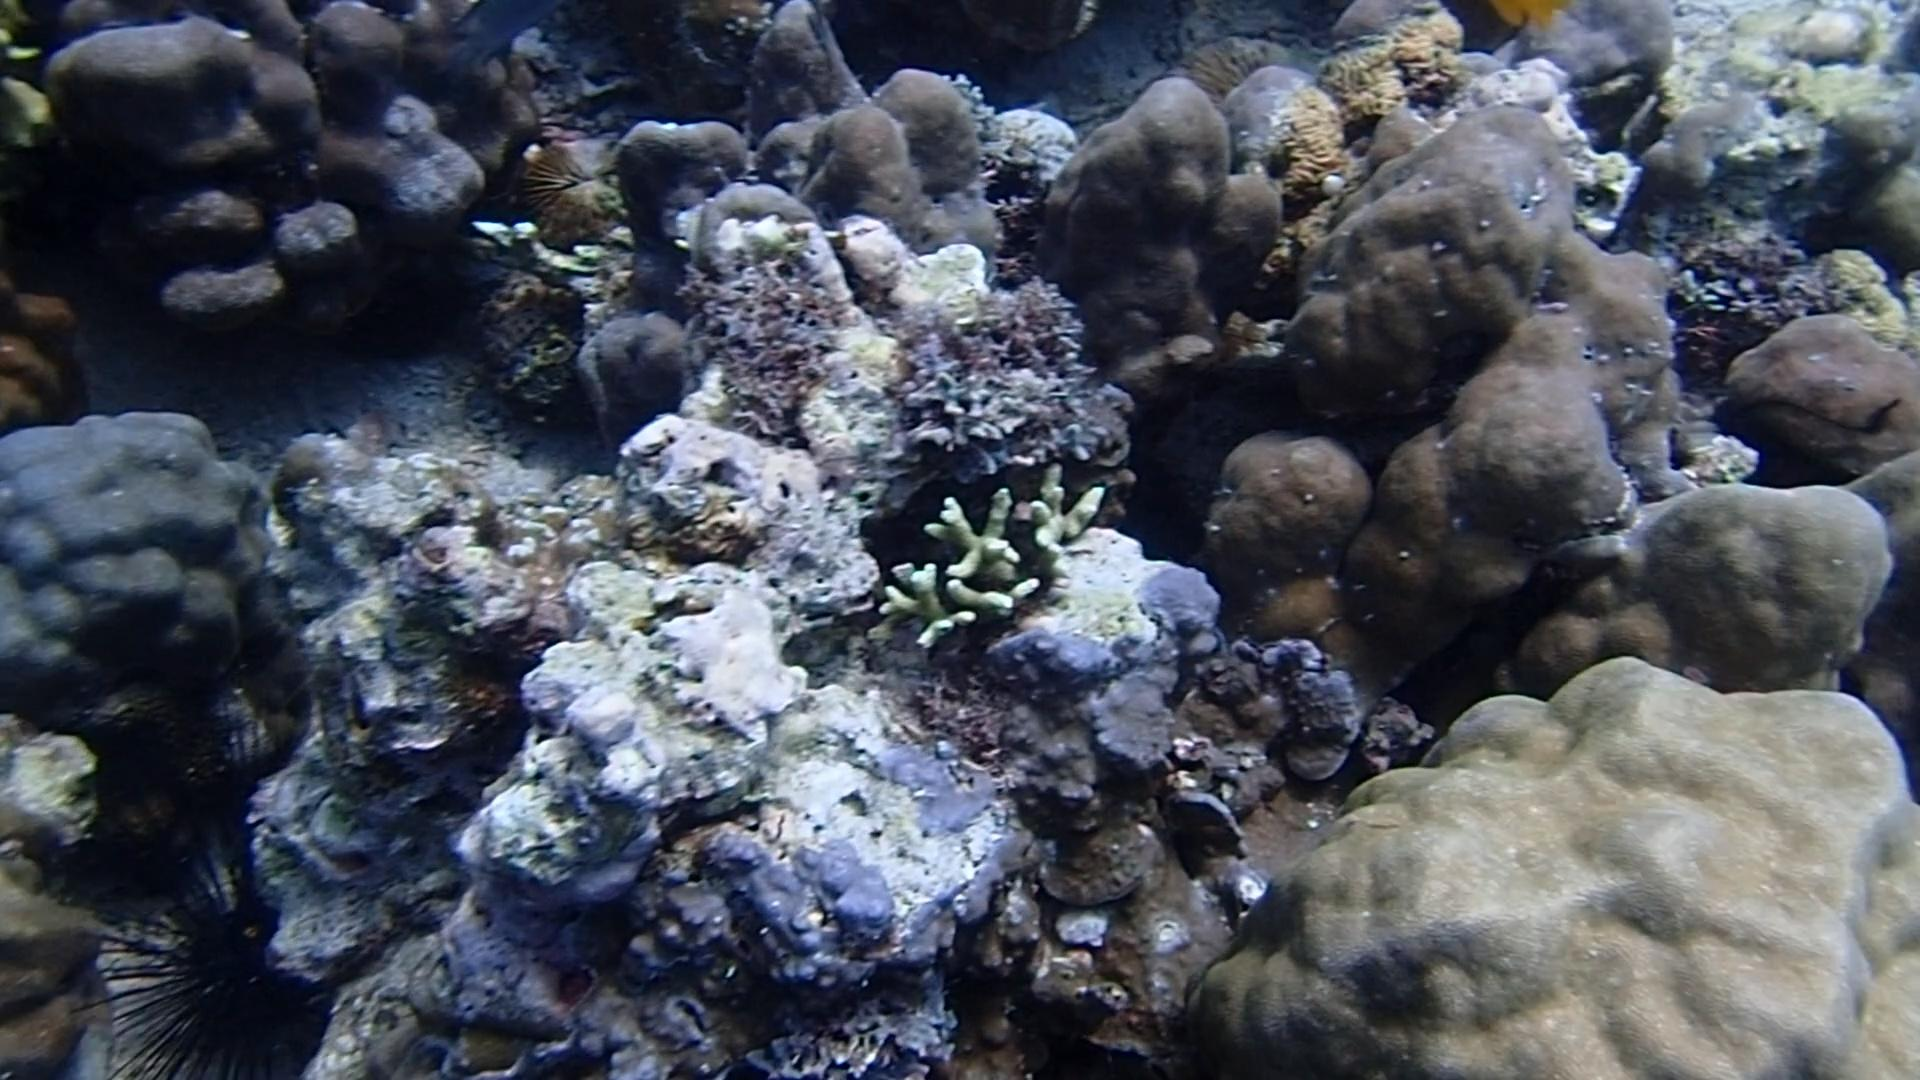Blue Fish Two: (423, 0, 576, 83)
Yellow Fish: (1472, 0, 1582, 41)
